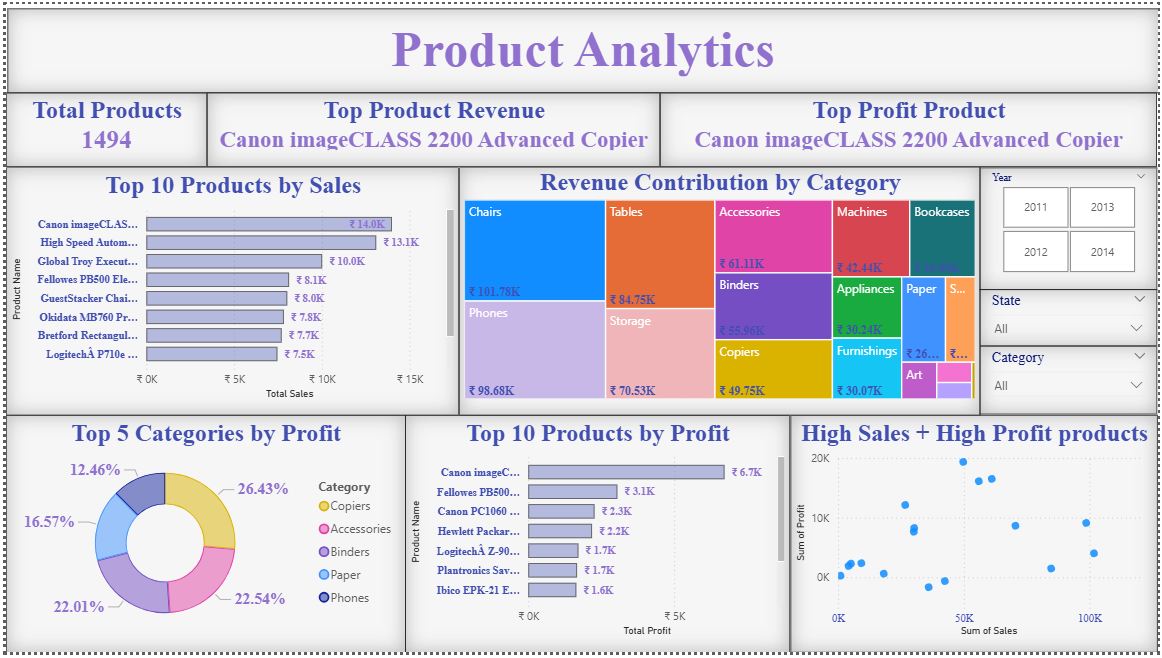

The dashboard page shown, as its layout file describes it:
{"tool":"powerbi","page":{"name":"Product Analytics","canvas":[1280,720],"ordinal":1},"visuals":[{"type":"card","title":"Total Products","fields":{"Values":["Calculations.Total Products"]},"box":[0,98.8,223.5,82.6],"z":0},{"type":"card","title":"Top Profit Product","fields":{"Values":["Calculations.Top Profit Product"]},"box":[727,98.8,552.2,82.6],"z":1000},{"type":"clusteredBarChart","title":"Top 10 Products by Sales","fields":{"Y":["Calculations.Total Sales"],"Category":["amazon_powerbi.Product Name"]},"box":[0,181.4,503.6,275.3],"z":2000},{"type":"clusteredBarChart","title":"Top 10 Products by Profit","fields":{"Category":["amazon_powerbi.Product Name"],"Y":["Calculations.Total Profit"]},"box":[443.7,456.6,427.5,263.9],"z":3000},{"type":"treemap","title":"Revenue Contribution by Category","fields":{"Group":["amazon_powerbi.Category"],"Values":["Calculations.Total Sales"]},"box":[503.6,181.4,579.7,275.3],"z":4000},{"type":"slicer","fields":{"Values":["amazon_powerbi.State"]},"box":[1081.6,317.4,197.5,63.1],"z":5000},{"type":"slicer","fields":{"Values":["amazon_powerbi.Month.Variation.Date Hierarchy.Year"]},"box":[1081.6,181.4,197.5,136],"z":6000},{"type":"slicer","fields":{"Values":["amazon_powerbi.Category"]},"box":[1081.6,380.5,197.5,76.1],"z":7000},{"type":"donutChart","title":"Top 5 Categories by Profit","fields":{"Category":["amazon_powerbi.Category"],"Y":["Calculations.Total Profit"]},"box":[0,456.6,443.7,263.9],"z":8000},{"type":"card","fields":{"Values":["Calculations.page 2"]},"box":[1.6,4.9,1279.2,93.9],"z":9000},{"type":"card","title":"Top Product Revenue","fields":{"Values":["Calculations.Top Profit Product"]},"box":[223.5,98.8,503.6,82.6],"z":10000},{"type":"scatterChart","title":"High Sales + High Profit products","fields":{"X":["Sum(amazon_powerbi.Sales)"],"Y":["Sum(amazon_powerbi.Profit)"],"Category":["amazon_powerbi.Category"]},"box":[871.1,456.6,408,263.9],"z":11000}]}

Visuals, with their boxes in screenshot pixels (x1, y1, x2, y2), scaled from the page's 1280x720 canvas onto the 1162x658 screenshot:
"Total Products" card: <bbox>0, 90, 203, 166</bbox>
"Top Profit Product" card: <bbox>660, 90, 1161, 166</bbox>
"Top 10 Products by Sales" clusteredBarChart: <bbox>0, 166, 457, 417</bbox>
"Top 10 Products by Profit" clusteredBarChart: <bbox>403, 417, 791, 657</bbox>
"Revenue Contribution by Category" treemap: <bbox>457, 166, 983, 417</bbox>
slicer - amazon_powerbi.State: <bbox>982, 290, 1161, 348</bbox>
slicer - amazon_powerbi.Month.Variation.Date Hierarchy.Year: <bbox>982, 166, 1161, 290</bbox>
slicer - amazon_powerbi.Category: <bbox>982, 348, 1161, 417</bbox>
"Top 5 Categories by Profit" donutChart: <bbox>0, 417, 403, 657</bbox>
card - Calculations.page 2: <bbox>1, 4, 1161, 90</bbox>
"Top Product Revenue" card: <bbox>203, 90, 660, 166</bbox>
"High Sales + High Profit products" scatterChart: <bbox>791, 417, 1161, 657</bbox>
